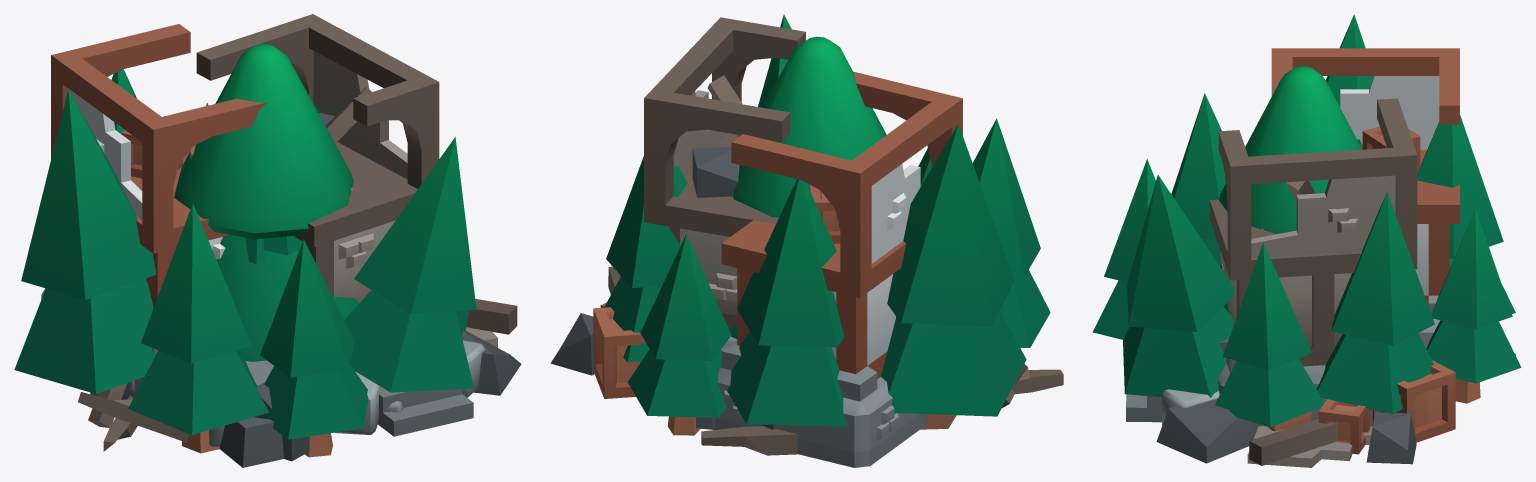
Rendered from decay.glb.
3 views of the same model, side by side, from view 1: azimuth 30°, elevation 25°; view 2: azimuth 150°, elevation 25°; view 3: azimuth 270°, elevation 25° (orthographic). The views are drawn at different scales.
Parts seen in each view (by area): view 1: trees_A_small, building_destroyed, tree_single_B, building_stage_C; view 2: trees_A_small, building_stage_C, building_destroyed, tree_single_B; view 3: trees_A_small, building_destroyed, building_stage_C, tree_single_B.
Boxes of the visible parts, left/top/right/bottom form: trees_A_small: left=14, top=69, right=476, bottom=457; building_destroyed: left=78, top=14, right=521, bottom=467; tree_single_B: left=174, top=44, right=358, bottom=361; building_stage_C: left=41, top=24, right=485, bottom=434; trees_A_small: left=604, top=14, right=1050, bottom=435; building_stage_C: left=593, top=71, right=962, bottom=467; building_destroyed: left=550, top=17, right=1063, bottom=455; tree_single_B: left=730, top=36, right=886, bottom=338; trees_A_small: left=1092, top=14, right=1521, bottom=427; building_destroyed: left=1126, top=98, right=1516, bottom=467; building_stage_C: left=1162, top=48, right=1459, bottom=454; tree_single_B: left=1219, top=66, right=1362, bottom=311.
Size of the model in its own units: 1.58 by 1.22 by 1.44.
1 material, 1 textured.
